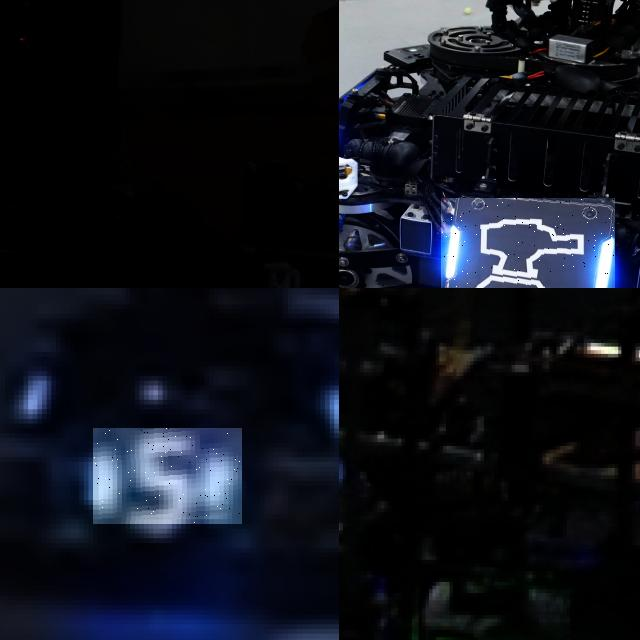B5: (93, 428, 242, 524)
Bs: (441, 197, 615, 288)
